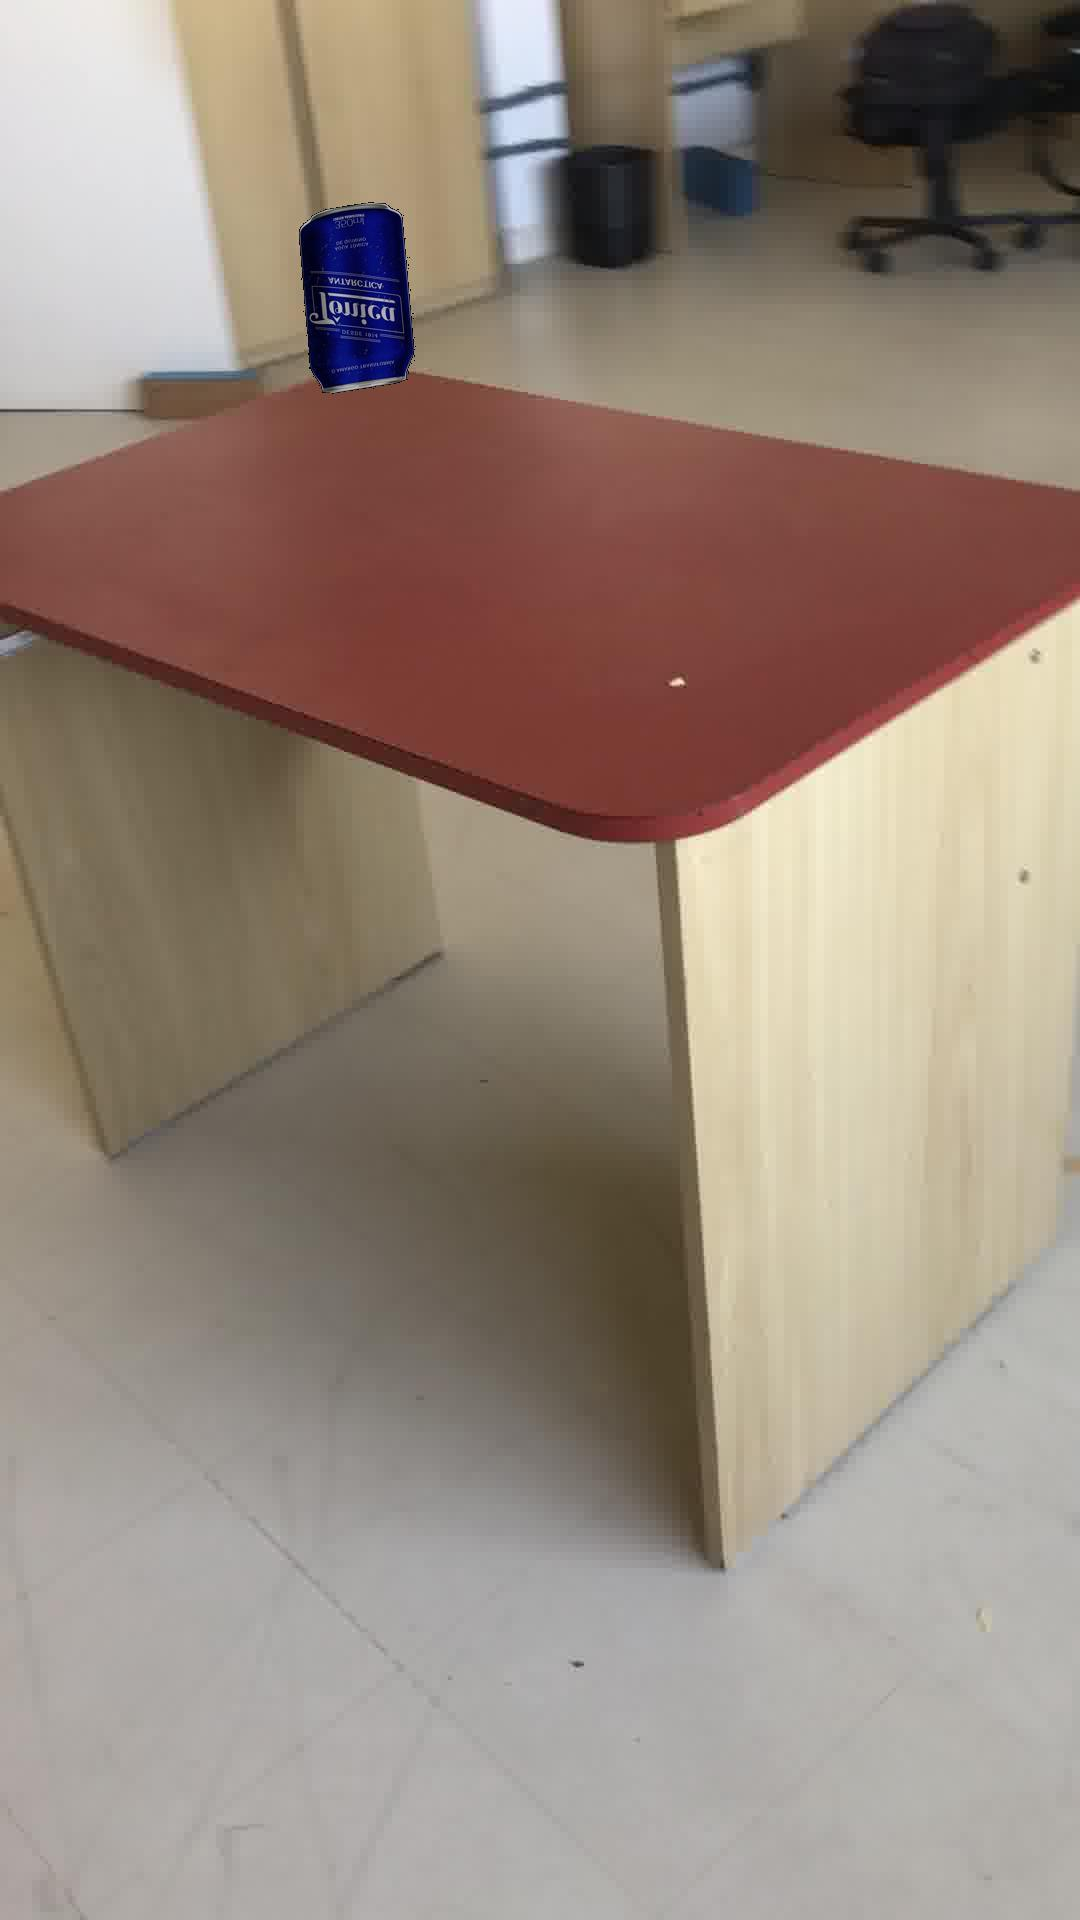tonic: (298, 200, 414, 393)
